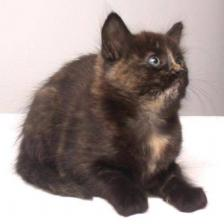cat: (94, 5, 201, 115)
